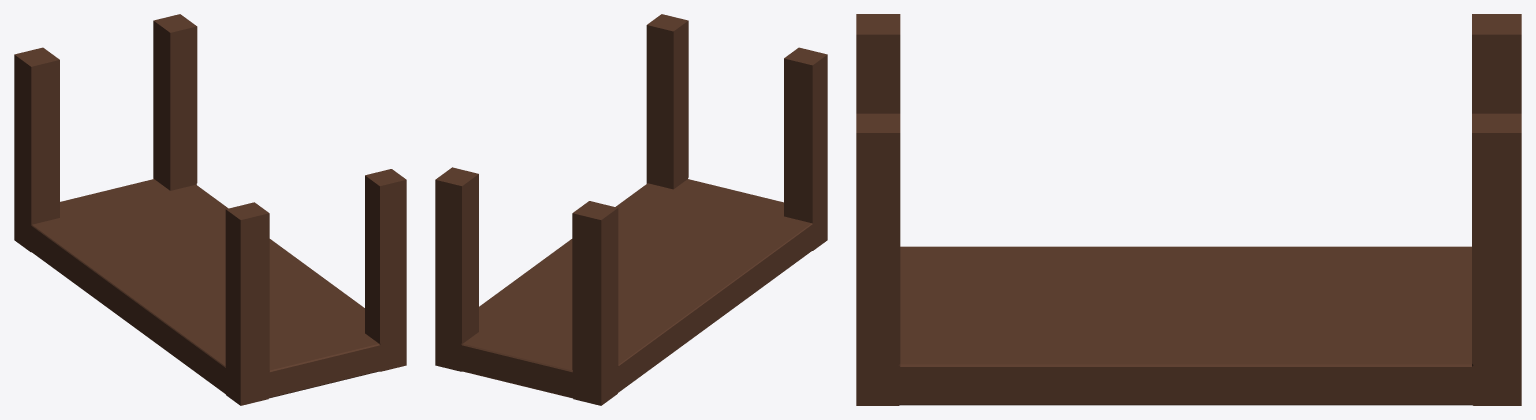
File: Workdesk.fbx
3 views of the same model, side by side, from view 1: azimuth 30°, elevation 25°; view 2: azimuth 150°, elevation 25°; view 3: azimuth 270°, elevation 25° (orthographic). The views are drawn at different scales.
Visible parts, largest first — view 1: Cube; view 2: Cube; view 3: Cube.
Boxes of the visible parts, box(x1,y1,x2,y2) form: Cube: box(14, 14, 406, 405); Cube: box(435, 14, 827, 405); Cube: box(856, 14, 1521, 405).
Size of the model in its own units: 200 by 214 by 473.
